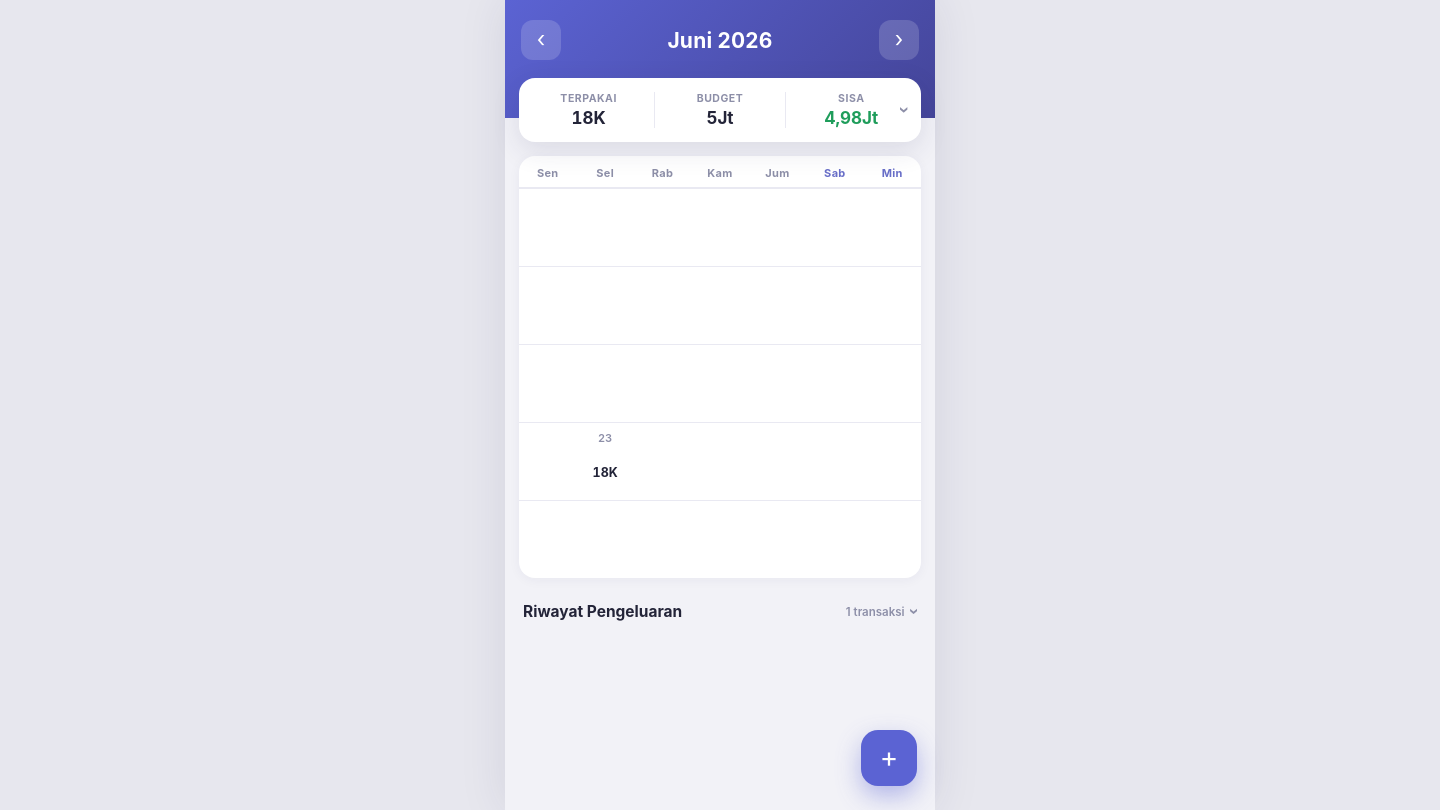
Test: App — renders the server dashboard › opens the FAB entry menu with a manual option
Expected: the text "Terpakai" is shown, [560, 92, 617, 105]
Click the button named "Tambah pengeluaran hari ini".
click(889, 758)  # box [861, 730, 917, 786]
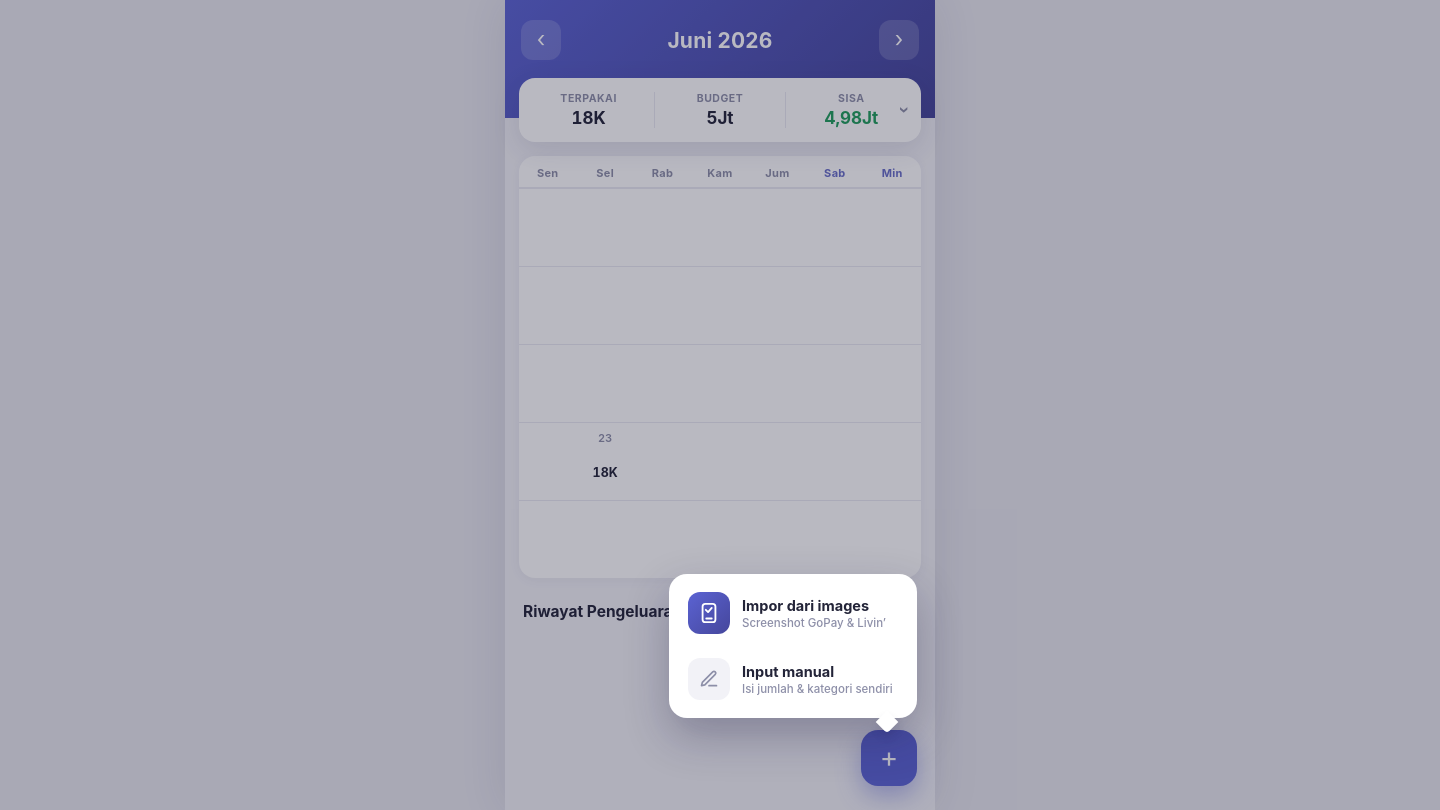
Result: the text "Input manual" is shown at [742, 662, 834, 680]
Result: the text "Impor dari images" is shown at [742, 596, 886, 614]
